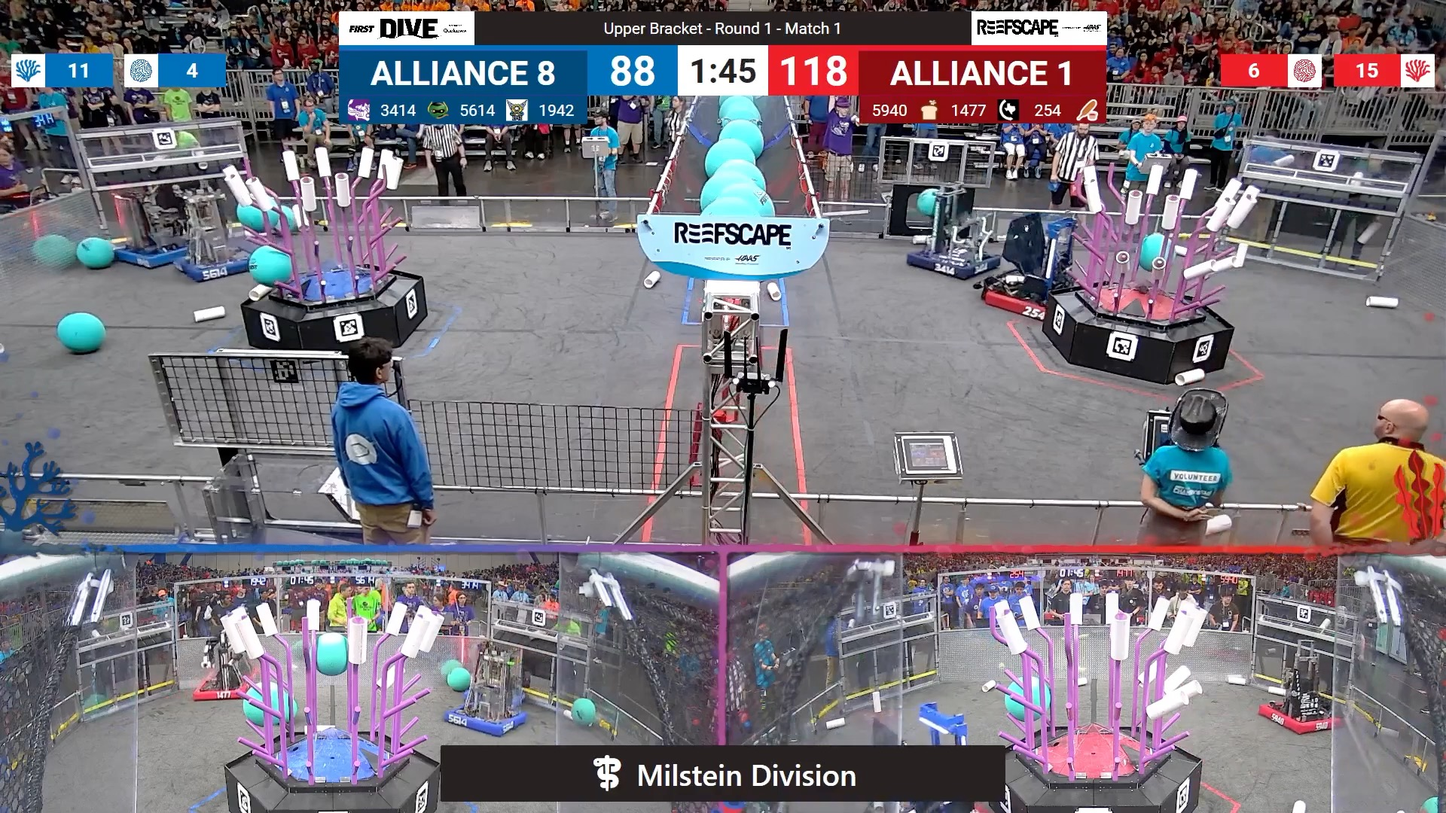bumpers: (899, 246, 1015, 284), (439, 697, 534, 740), (974, 278, 1066, 322), (1249, 695, 1346, 736), (111, 235, 201, 276), (169, 252, 265, 284), (193, 666, 262, 703)
